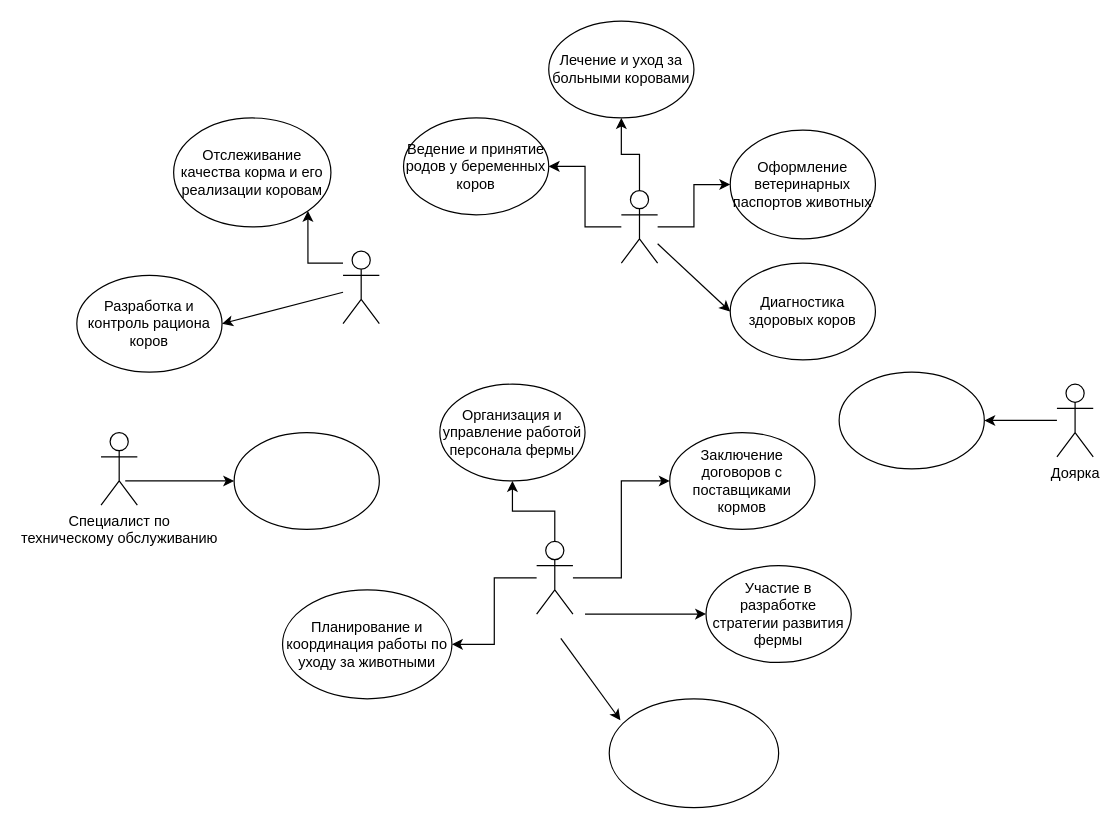
This 1119x829 diagram has some shape labels left out. Here are the shapes that lost their labels. From the top down, the centre of each, then its label:
At point (639, 226): "Ветеринар".
At point (360, 287): "Специалист по кормлению".
At point (911, 420): "Доение коров".
At point (306, 480): "Обслуживание и ремонт коровника".
At point (554, 577): "Управляющий".
At point (693, 753): "Решение вопросов с государственными органами и службами".
